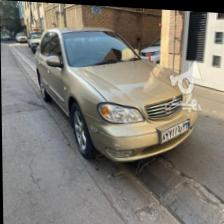plate: (161, 114, 192, 142)
